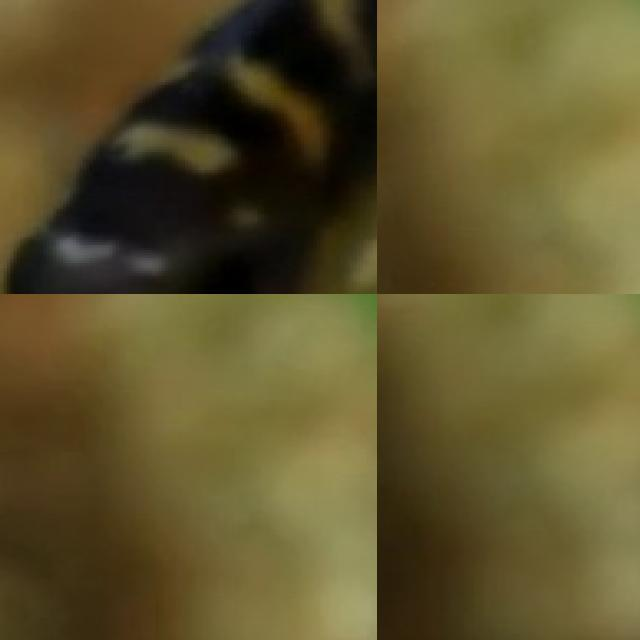fish: (0, 0, 377, 294)
